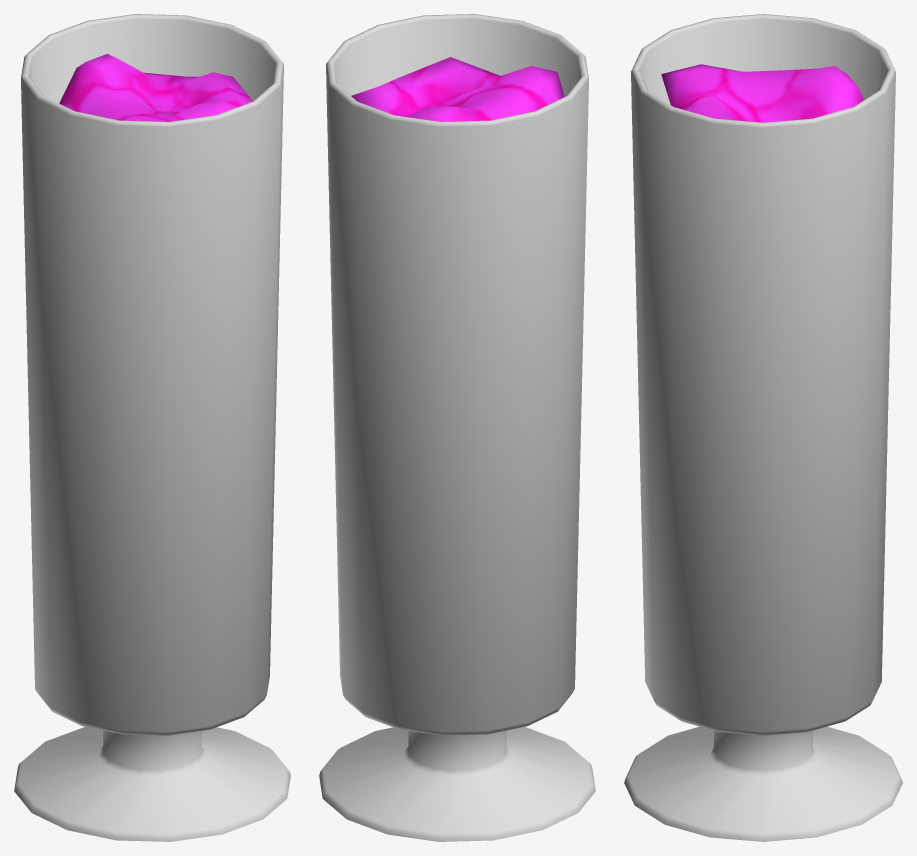
File: BuffetCandy02_1.FBX
The picture shows the model from 3 angles, left to right: view 1: azimuth 30°, elevation 25°; view 2: azimuth 150°, elevation 25°; view 3: azimuth 270°, elevation 25°; orthographic projection.
Parts seen in each view (by area): view 1: BuffetCandy02_1; view 2: BuffetCandy02_1; view 3: BuffetCandy02_1.
Boxes of the visible parts, bbox=[...] form: BuffetCandy02_1: bbox=[14, 14, 290, 841]; BuffetCandy02_1: bbox=[319, 14, 595, 841]; BuffetCandy02_1: bbox=[624, 14, 902, 841].
Size of what is drawn, in the model's own units: 0.1489 by 0.4207 by 0.1489.
